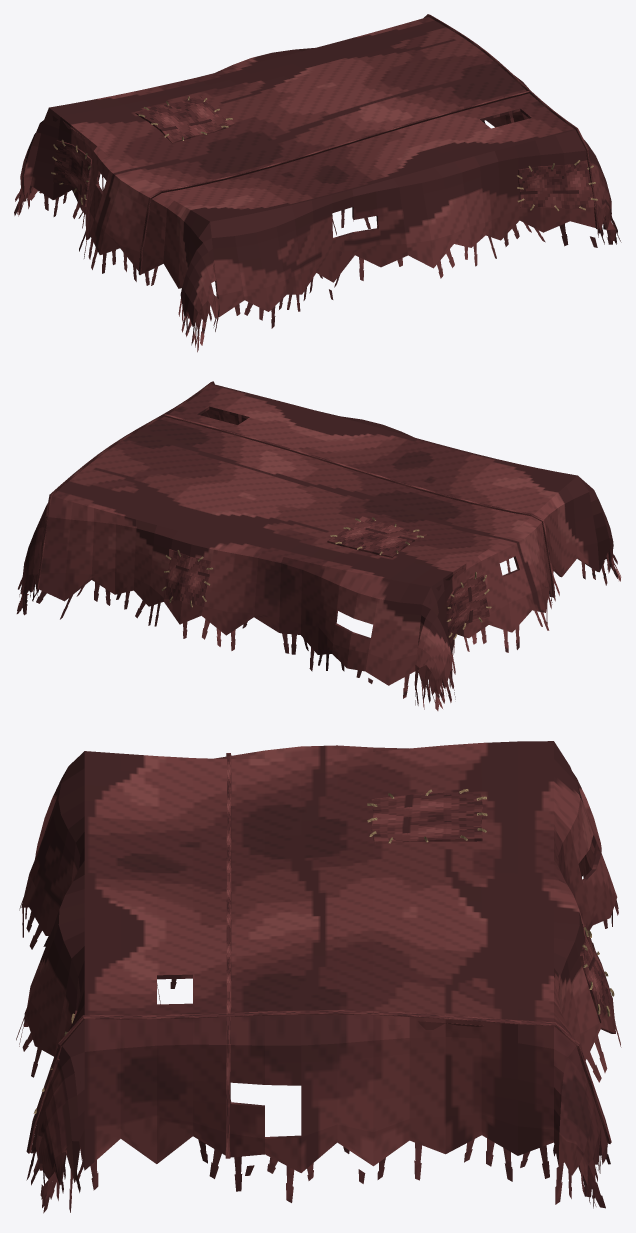
The model's file is SM_AN34_BurgundyCloth.fbx.
3 renders of one model, top to bottom at view 1: azimuth 30°, elevation 25°; view 2: azimuth 150°, elevation 25°; view 3: azimuth 270°, elevation 25°, orthographic. The views are drawn at different scales.
Visible parts, largest first — view 1: AN34a_Cloth, AN34a_Props; view 2: AN34a_Cloth, AN34a_Props; view 3: AN34a_Cloth, AN34a_Props.
Boxes of the visible parts, <box> form: AN34a_Cloth: <box>14,17,621,352</box>; AN34a_Props: <box>51,14,598,274</box>; AN34a_Cloth: <box>16,384,621,710</box>; AN34a_Props: <box>36,381,555,643</box>; AN34a_Cloth: <box>16,741,621,1213</box>; AN34a_Props: <box>26,753,614,1158</box>.
Bounding box in the file's own units: 2.14 × 0.5578 × 1.63.
